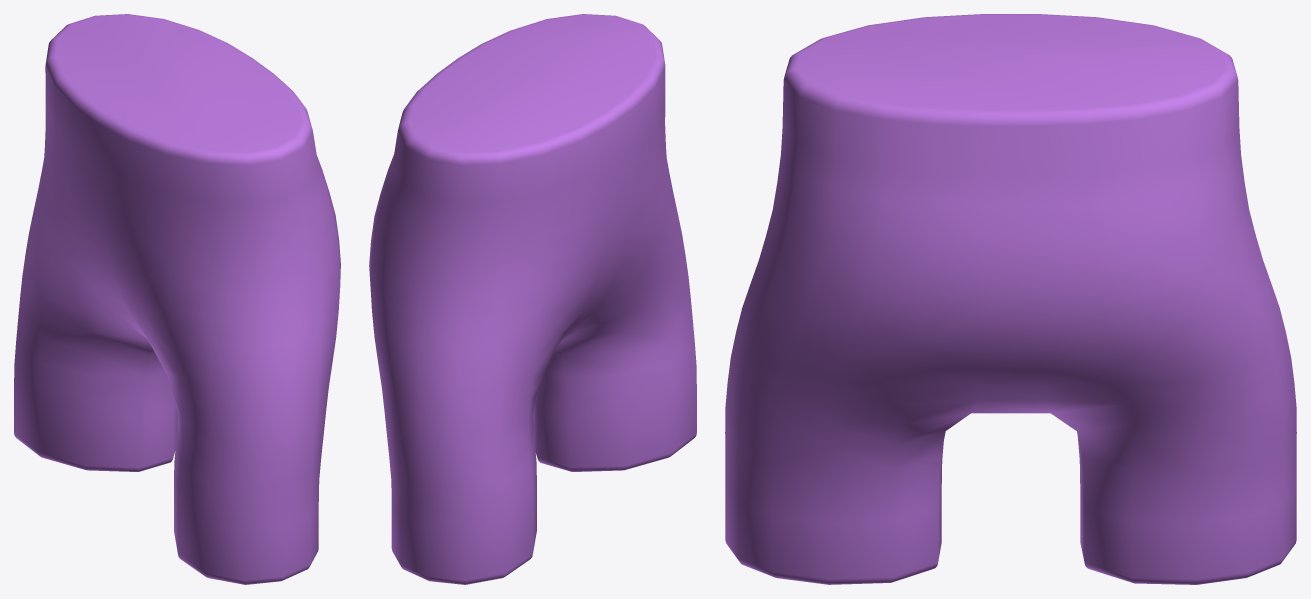
The model's file is PantMannequin.fbx.
3 renders of one model, left to right at view 1: azimuth 30°, elevation 25°; view 2: azimuth 150°, elevation 25°; view 3: azimuth 270°, elevation 25°, orthographic. The views are drawn at different scales.
Visible parts, largest first — view 1: PantMannequin; view 2: PantMannequin; view 3: PantMannequin.
Part boxes in pixels (<box>): PantMannequin: <box>14,14,340,584</box>; PantMannequin: <box>369,14,696,584</box>; PantMannequin: <box>725,14,1296,584</box>.
Bounding box in the file's own units: 218 × 409 × 430.
